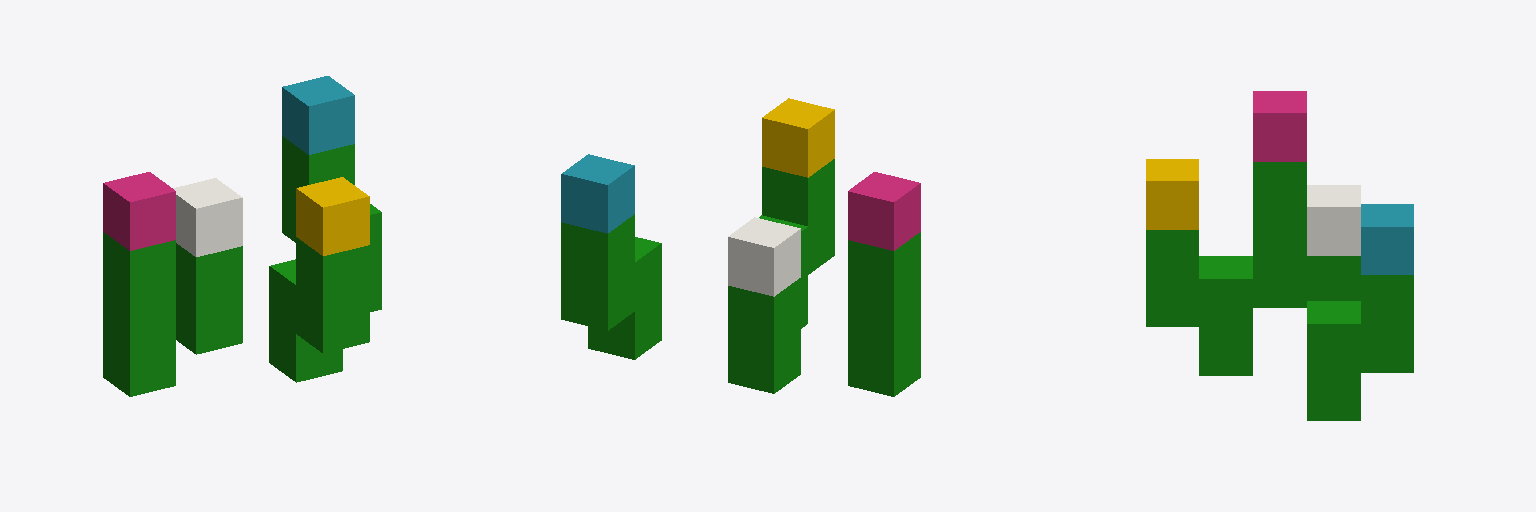
3 renders of one model, left to right at view 1: azimuth 30°, elevation 25°; view 2: azimuth 150°, elevation 25°; view 3: azimuth 270°, elevation 25°, orthographic.
Visible parts, largest first — view 1: Element #6, Element #4, Element #5, Element #2, Element #3, Element #1; view 2: Element #6, Element #2, Element #5, Element #4, Element #1, Element #3; view 3: Element #6, Element #2, Element #4, Element #1, Element #3, Element #5.
Boxes of the visible parts, x1,y1,x2,y2 form: Element #6: [103, 172, 175, 396]; Element #4: [296, 177, 369, 353]; Element #5: [173, 178, 242, 354]; Element #2: [282, 76, 354, 242]; Element #3: [269, 259, 342, 382]; Element #1: [370, 204, 381, 311]; Element #6: [848, 172, 920, 396]; Element #2: [561, 154, 634, 330]; Element #5: [728, 217, 800, 393]; Element #4: [762, 98, 834, 274]; Element #1: [588, 237, 661, 359]; Element #3: [759, 215, 807, 328]; Element #6: [1253, 91, 1306, 307]; Element #2: [1361, 204, 1413, 372]; Element #4: [1146, 159, 1198, 326]; Element #1: [1307, 301, 1360, 420]; Element #3: [1199, 256, 1252, 375]; Element #5: [1307, 185, 1360, 300].
Size of the model in its own units: 0.96 by 0.64 by 0.8.
1 materials, 1 textured.